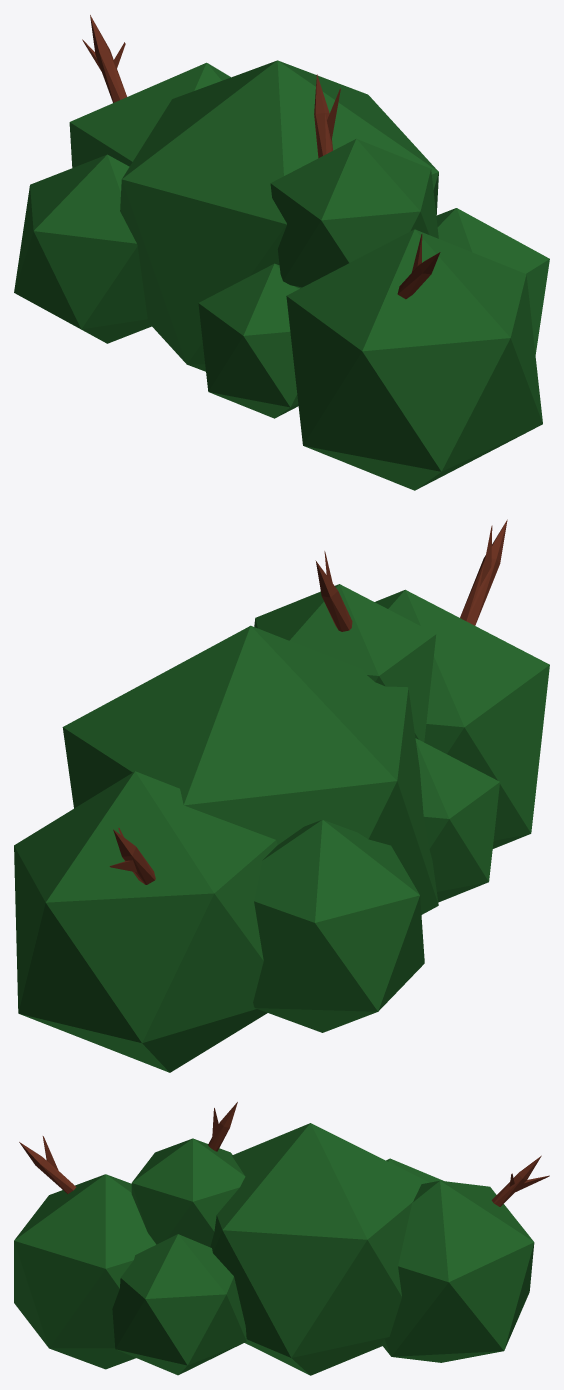
The model's file is Bush_02.fbx.
3 views of the same model, one above another, from view 1: azimuth 30°, elevation 25°; view 2: azimuth 150°, elevation 25°; view 3: azimuth 270°, elevation 25° (orthographic). The views are drawn at different scales.
Parts seen in each view (by area): view 1: Bush_02; view 2: Bush_02; view 3: Bush_02.
Boxes of the visible parts, x1,y1,x2,y2 form: Bush_02: (14,15,549,490); Bush_02: (14,519,549,1072); Bush_02: (14,1102,549,1375).
Size of the model in its own units: 94.45 by 89.19 by 160.
